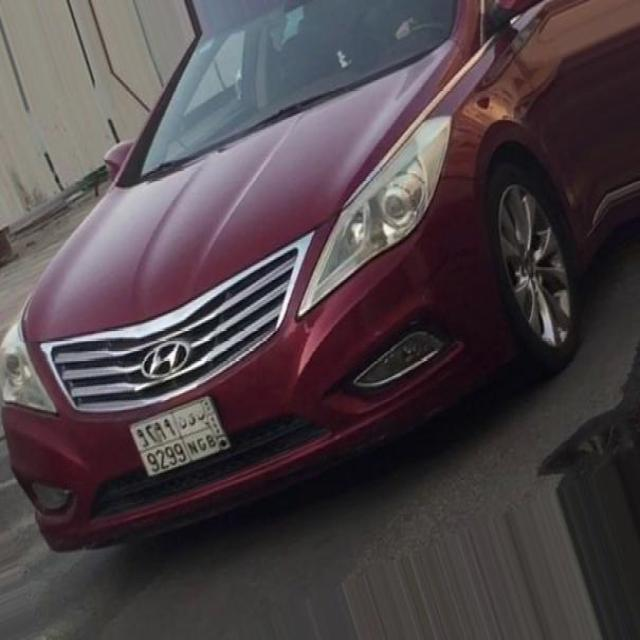Car-plate: (119, 378, 242, 502)
